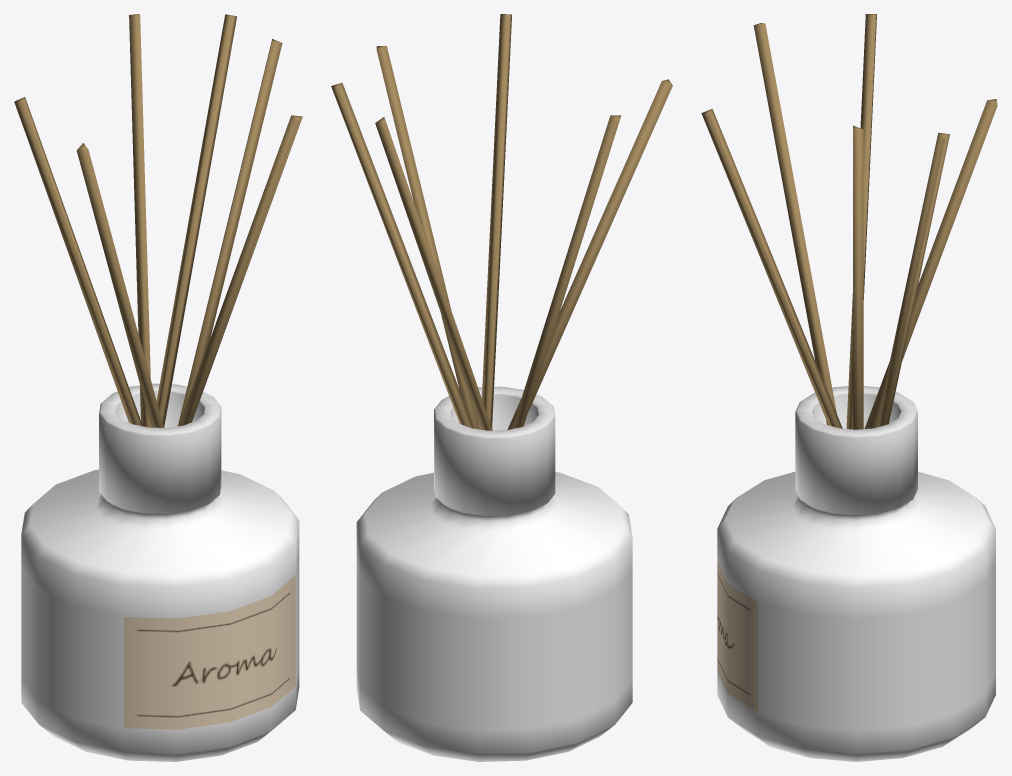
Rendered from aroma-reed-diffuser.glb.
3 renders of one model, left to right at view 1: azimuth 30°, elevation 25°; view 2: azimuth 150°, elevation 25°; view 3: azimuth 270°, elevation 25°, orthographic.
Parts seen in each view (by area): view 1: __X_BOTTLE__bottle, Stick.001, Stick.002, Stick.004, Stick, Stick.005, Stick.003; view 2: __X_BOTTLE__bottle, Stick.005, Stick.001, Stick.003, Stick.004, Stick.002, Stick; view 3: __X_BOTTLE__bottle, Stick.003, Stick.005, Stick.001, Stick.004, Stick, Stick.002.
Part boxes in pixels (bbox=[...]): __X_BOTTLE__bottle: bbox=[21, 383, 299, 761]; Stick.001: bbox=[156, 14, 236, 427]; Stick.002: bbox=[14, 97, 142, 426]; Stick.004: bbox=[129, 14, 151, 427]; Stick: bbox=[178, 39, 282, 426]; Stick.005: bbox=[178, 115, 302, 425]; Stick.003: bbox=[76, 143, 163, 427]; __X_BOTTLE__bottle: bbox=[356, 386, 632, 761]; Stick.005: bbox=[480, 14, 511, 429]; Stick.001: bbox=[331, 82, 474, 428]; Stick.003: bbox=[507, 79, 672, 429]; Stick.004: bbox=[375, 117, 492, 430]; Stick.002: bbox=[512, 115, 621, 428]; Stick: bbox=[376, 46, 480, 429]; __X_BOTTLE__bottle: bbox=[717, 386, 995, 761]; Stick.003: bbox=[753, 23, 836, 424]; Stick.005: bbox=[701, 108, 842, 428]; Stick.001: bbox=[875, 132, 949, 427]; Stick.004: bbox=[864, 99, 997, 428]; Stick: bbox=[853, 125, 863, 429]; Stick.002: bbox=[846, 14, 876, 429].
Bounding box in the file's own units: 0.0847 × 0.2021 × 0.085.
5 materials, 1 textured.
